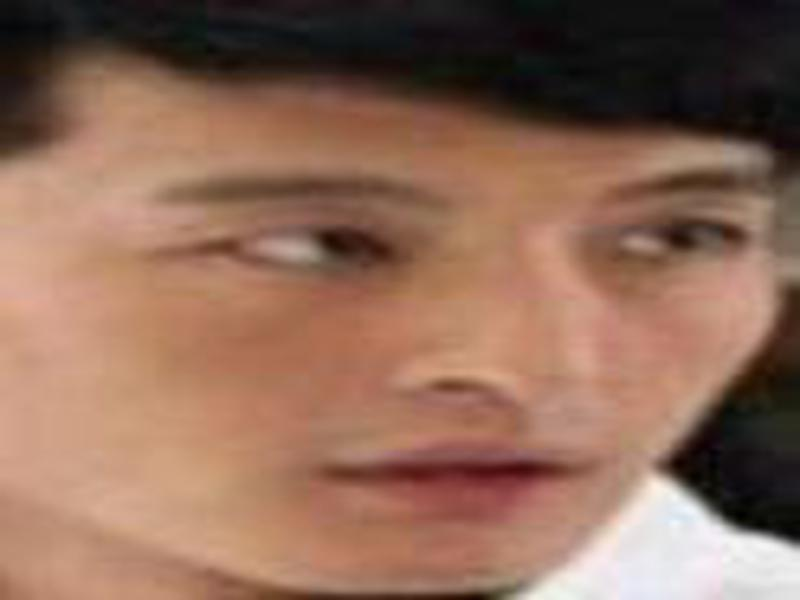without_mask: (49, 42, 780, 593)
